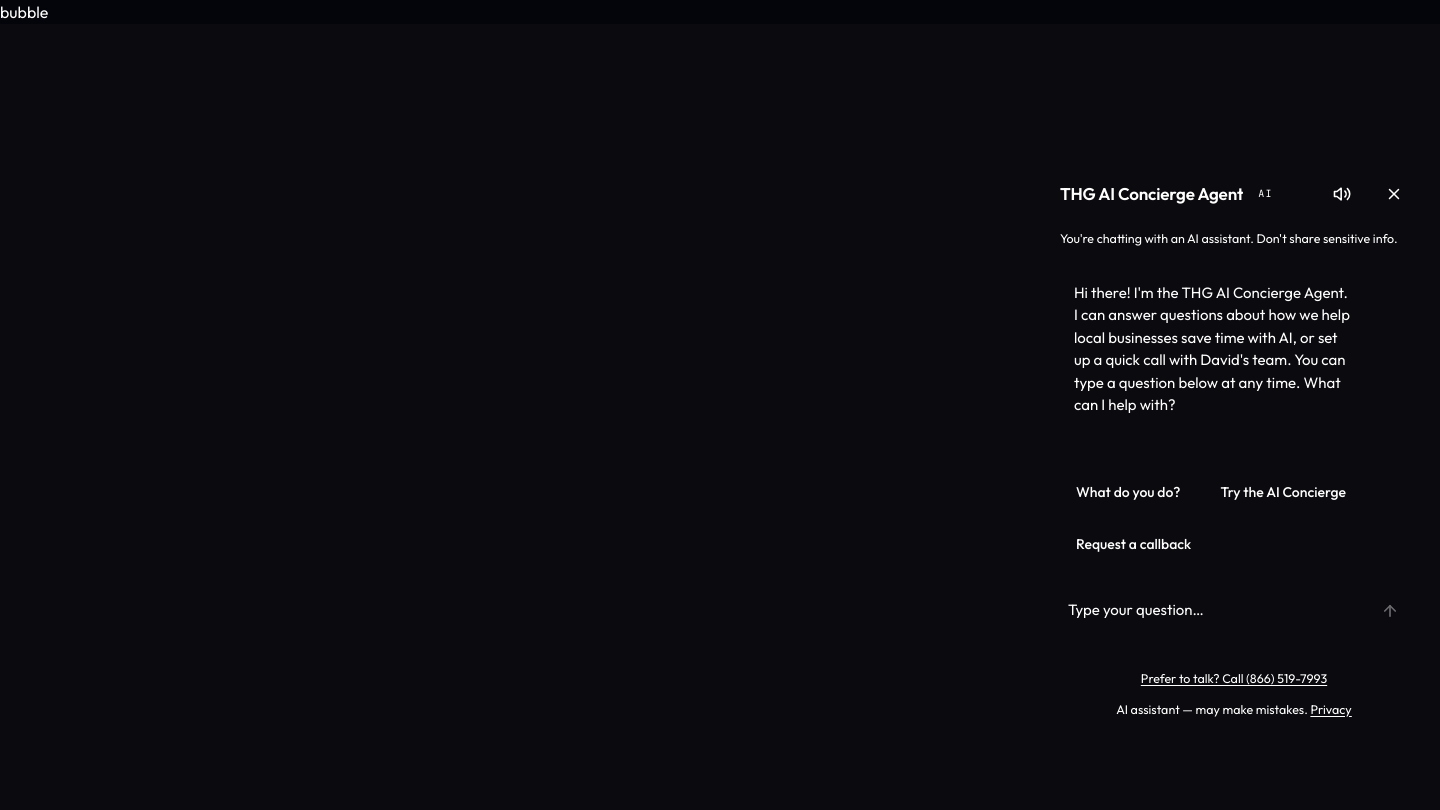
it: ChatPanel voice › a typed question gets a reply that is read aloud by default, with no recording events
Type "what do you do" into the text box named "Message".
click(1208, 610); type("what do you do")  # box 1056,588 -> 1360,632
Then press Enter
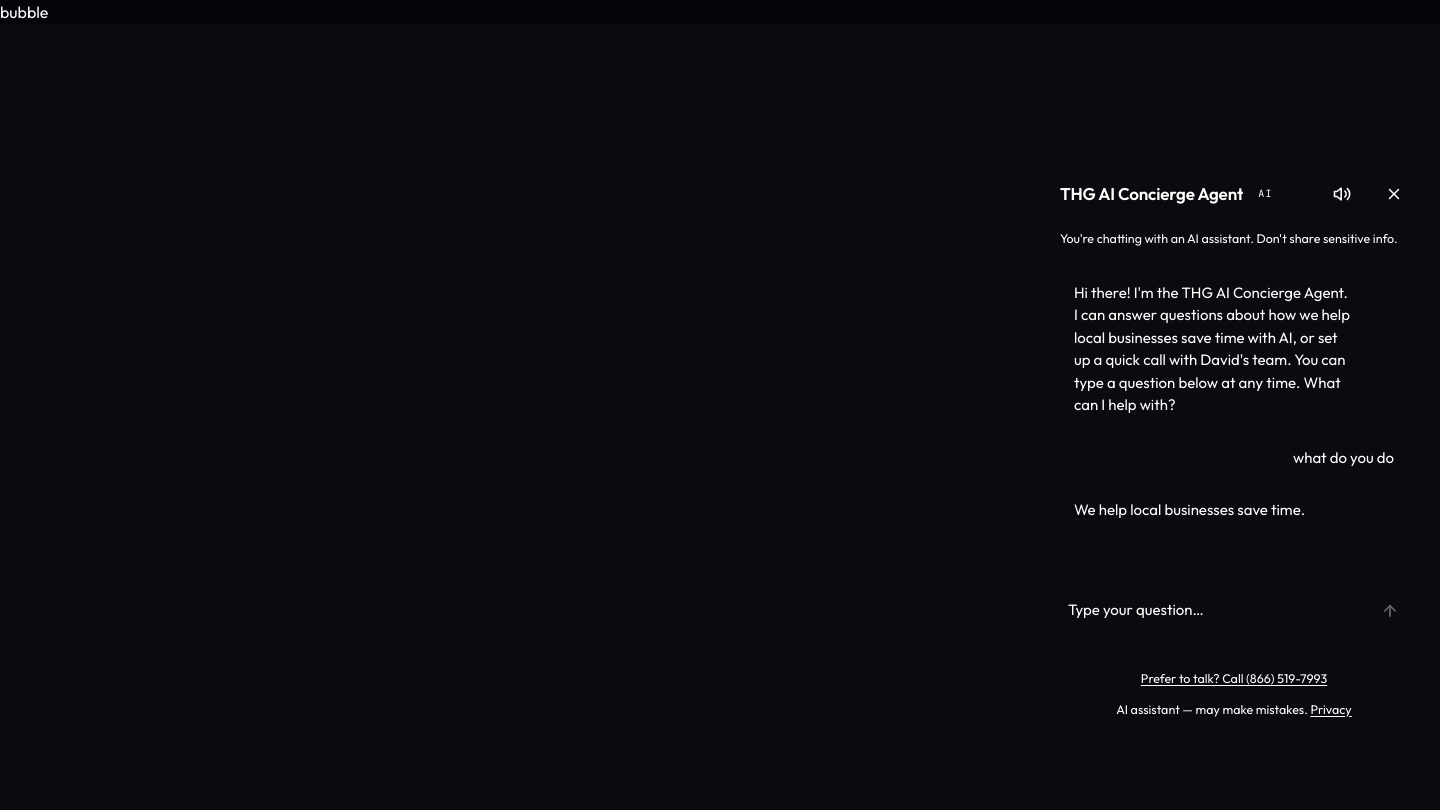
Now the text "We help local businesses save time." is shown, box 1073,499 -> 1305,519
